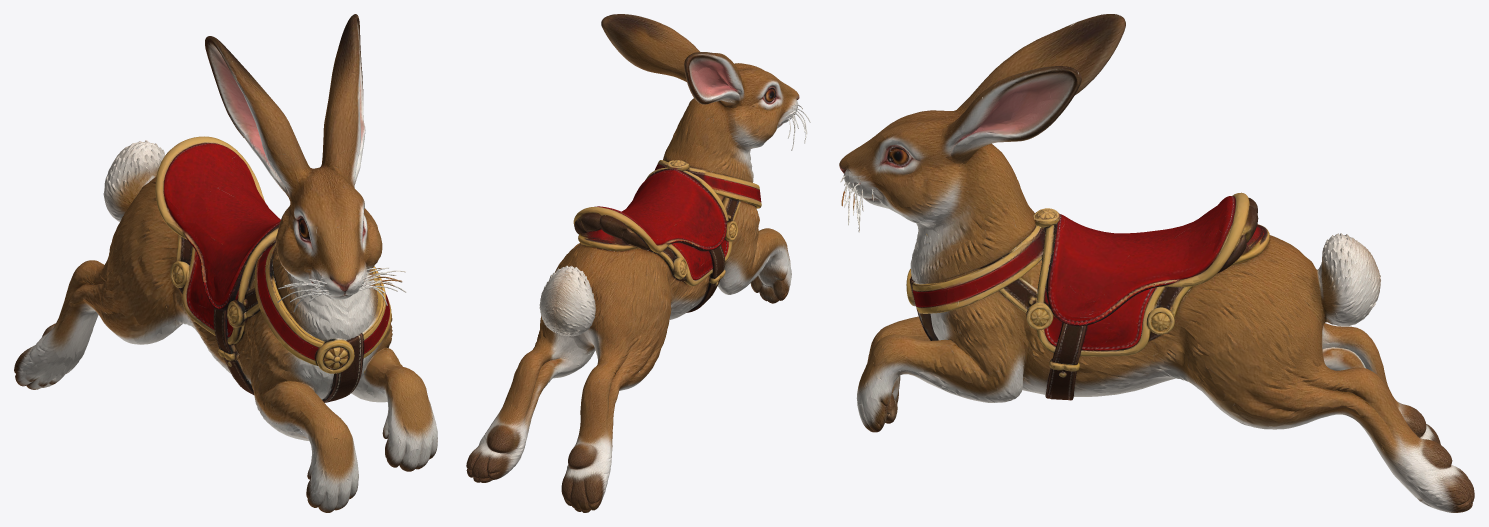
The model's file is rabbit.glb.
3 views of the same model, side by side, from view 1: azimuth 30°, elevation 25°; view 2: azimuth 150°, elevation 25°; view 3: azimuth 270°, elevation 25° (orthographic). The views are drawn at different scales.
Bounding box in the file's own units: 0.6004 × 1.56 × 1.89.
Materials: 1 (1 with a texture image).
